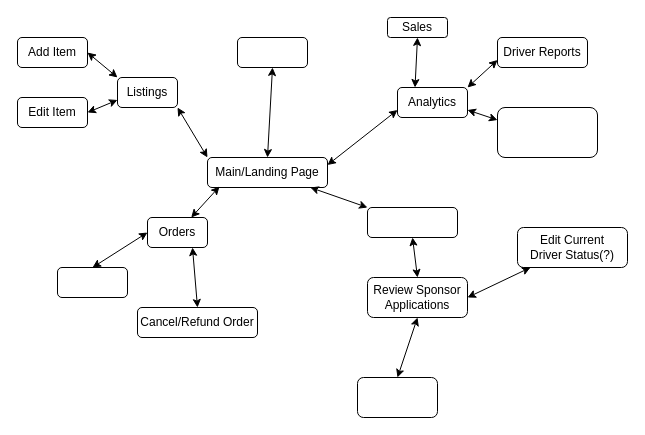
This 645x435 diagram has some shape labels left out. Here are the shapes that lost their labels. From the top down, the centre of each, then its label:
(272,52): Login
(547,132): Whatever Else I Think Up
(412,222): Current Drivers
(92,282): Ship Order
(397,397): Accept/Deny Application
